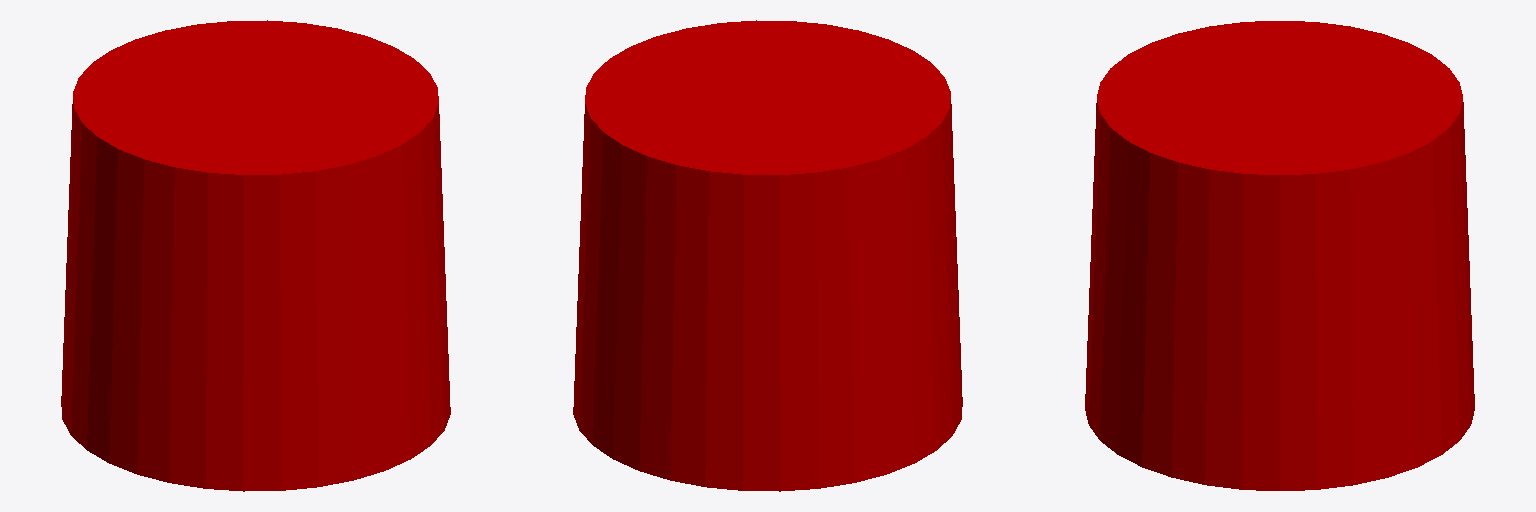
URDF robot description (red_cup):
<?xml version="1.0"?>
<robot name="red_cup">
<link name="red_cup">
    <visual>
      <geometry>
        <mesh filename="package://laas_objects/res/obj/red_cup.obj"/>
      </geometry>
      <origin rpy="1.57075 0 0" xyz="0 0 0"/>
      <material name="red">
        <color rgba=".8 0 0 1"/>
      </material>
    </visual>
    <collision>
      <geometry>
        <mesh filename="package://laas_objects/res/obj/red_cup.obj"/>
      </geometry>
      <origin rpy="1.57075 0 0" xyz="0 0 0"/>
      <contact_coefficients mu="1000.0" kp="0.00" kd="0.0"/>
    </collision>
    <inertial>
      <mass value="0.15"/>
      <inertia ixx="0.000378125" ixy="0.0" ixz="0.0" iyy="0.000378125" iyz="0.0" izz="0.000378125"/>
    </inertial>
</link>
</robot>

--- Facts derived from the render (not from the file) ---
The picture shows the robot from 3 angles, left to right: view 1: azimuth 30°, elevation 25°; view 2: azimuth 150°, elevation 25°; view 3: azimuth 270°, elevation 25°; orthographic projection.
Model red_cup with 1 links and 0 joints (none), rooted at red_cup, posed every joint at zero.
Links seen in each view (by area): view 1: red_cup; view 2: red_cup; view 3: red_cup.
Link boxes in pixels (x1,y1,x2,y2): red_cup: (61, 20, 450, 491); red_cup: (573, 20, 962, 491); red_cup: (1085, 21, 1474, 490).
Size in the robot's own frame: 0.0683 by 0.0683 by 0.0601 metres.
Meshes: 1 distinct files referenced, 1 mesh visuals loaded (1 OBJ).